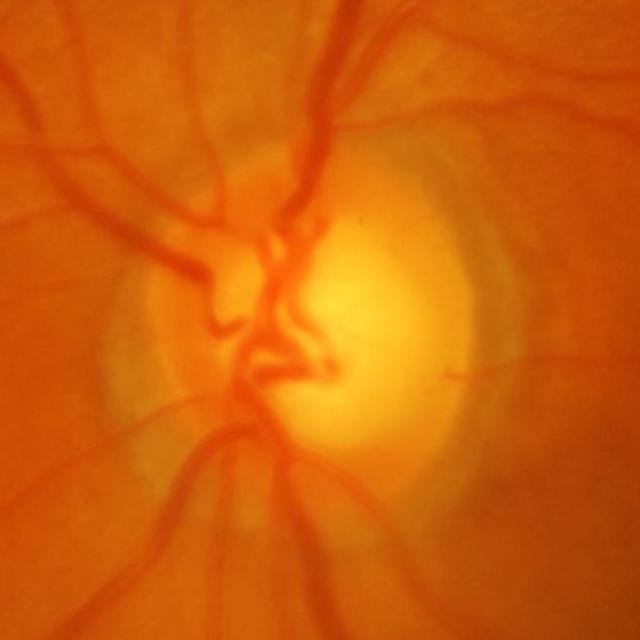OC: (207, 236, 408, 454)
OD: (146, 137, 476, 538)
